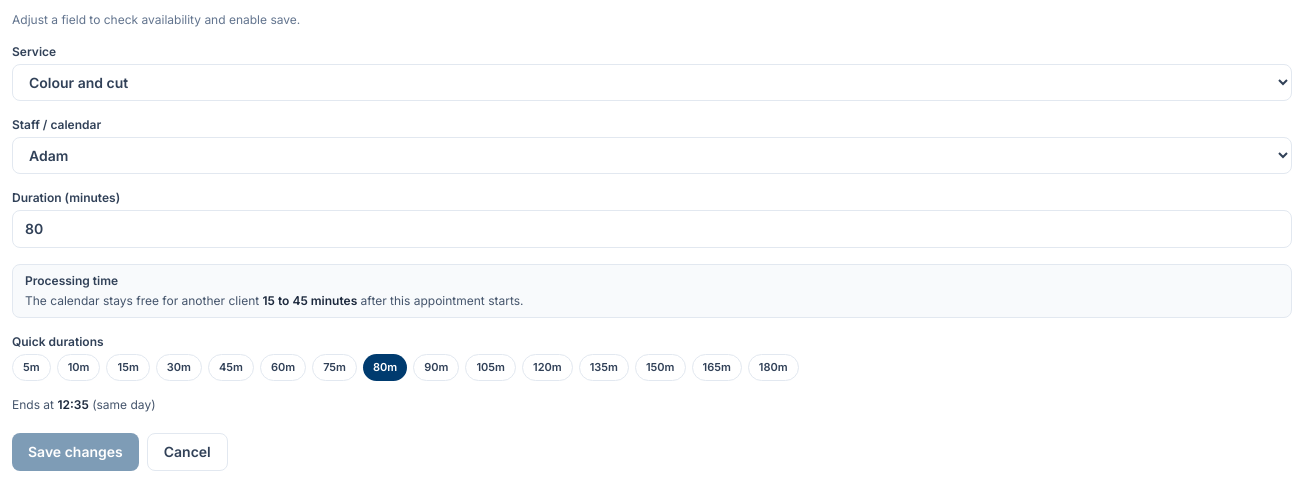
StaffAppointmentModifyForm processing time › warns when the new service has no processing time at all
Select "Blow dry" in the dropdown labelled "Service" at (652, 82), box x1=12 y1=64 x2=1292 y2=101
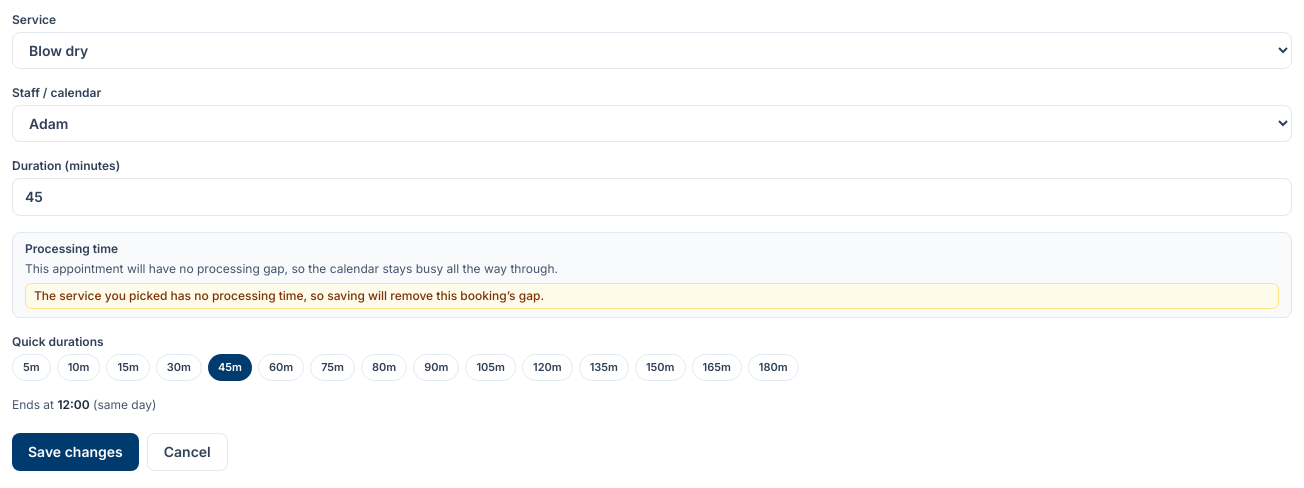
expect the text "no processing time, so saving will remove" is shown: met, box x1=34 y1=288 x2=544 y2=303
